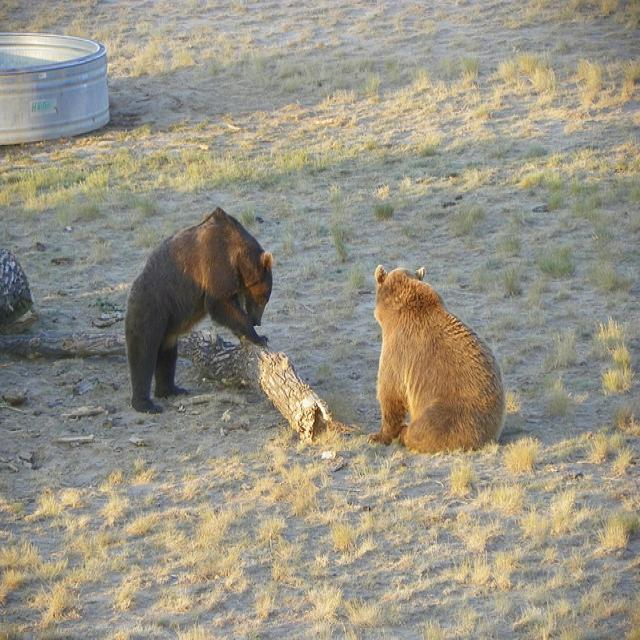Bear: (117, 208, 288, 425), (359, 254, 516, 448)
